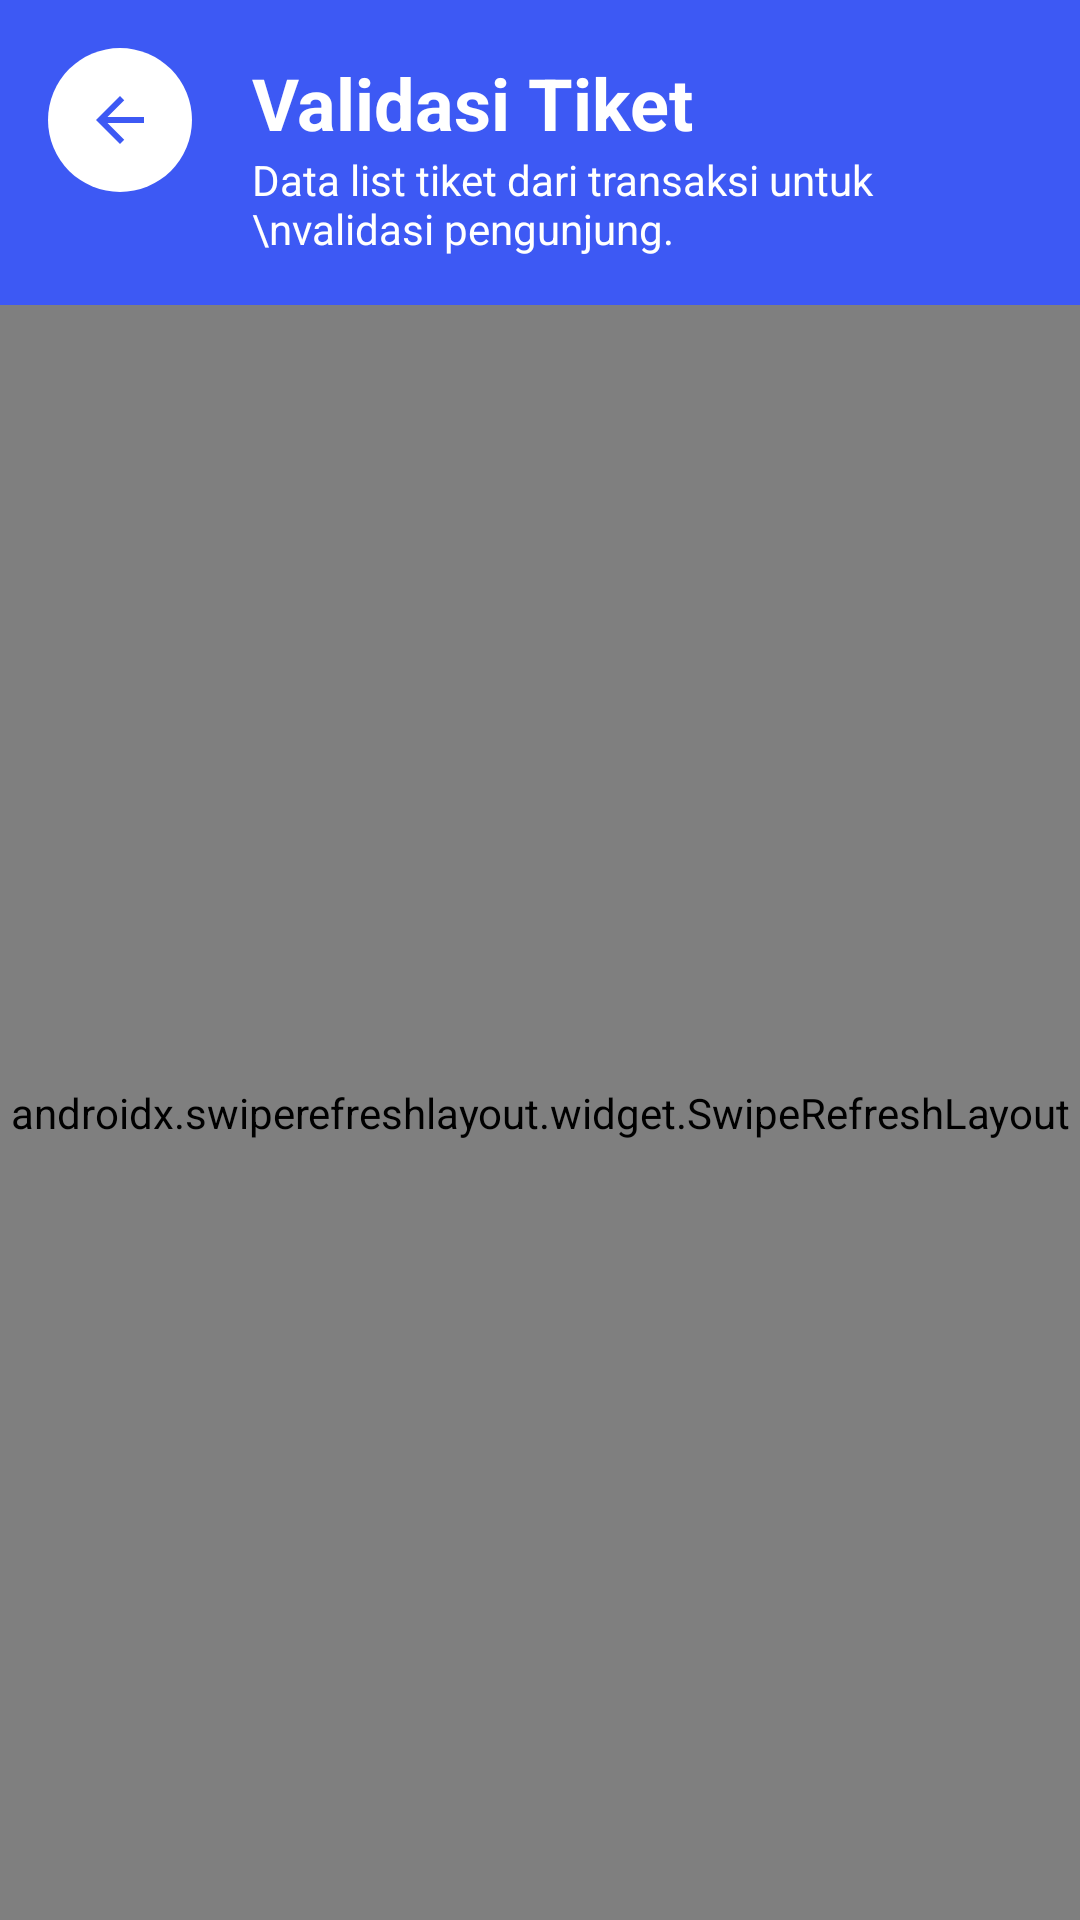

Where icons sit on this 1080×1920 app screen, as (x1, y1, x2, y2):
back arrow: (48, 48, 192, 192)
